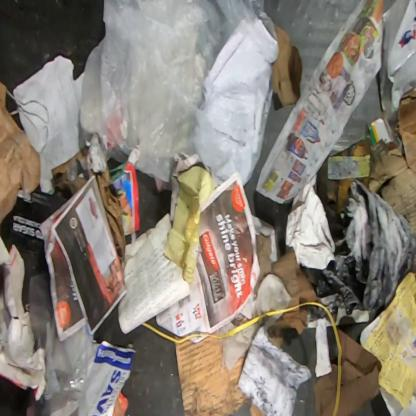cardboard: (370, 88, 415, 237), (174, 330, 250, 415), (314, 328, 382, 416), (0, 83, 41, 226), (266, 325, 286, 350)
soft_plastic: (80, 1, 279, 191), (28, 271, 97, 416)
